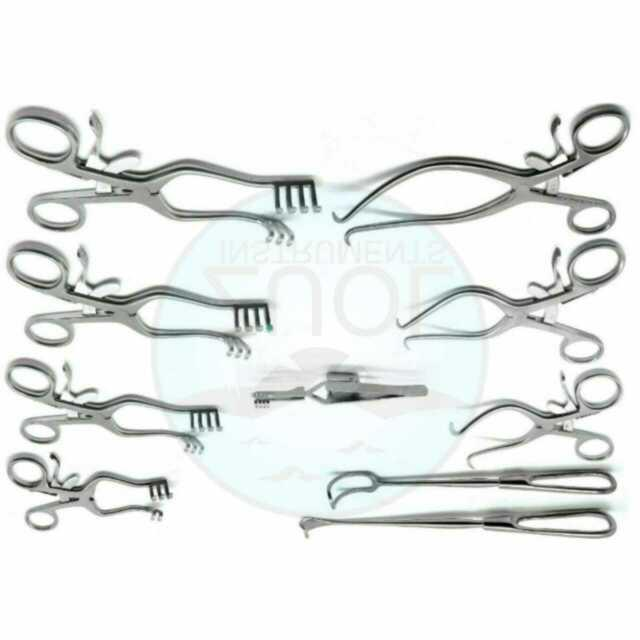Weitlaner: (4, 103, 323, 251), (329, 102, 632, 250), (5, 238, 277, 364), (392, 237, 627, 367), (5, 356, 226, 457), (446, 366, 627, 473), (5, 449, 175, 534)
